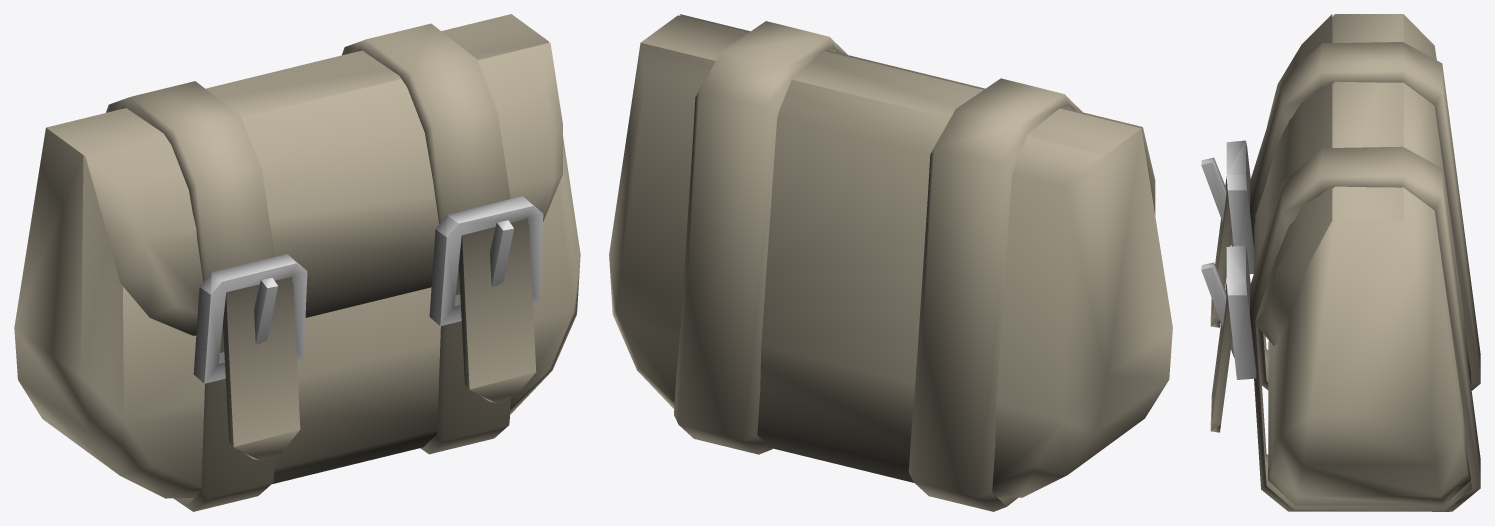
File: pq_bourse.glb
The picture shows the model from 3 angles, left to right: view 1: azimuth 30°, elevation 25°; view 2: azimuth 150°, elevation 25°; view 3: azimuth 270°, elevation 25°; orthographic projection. The views are drawn at different scales.
Visible parts, largest first — view 1: Pouch_Large; view 2: Pouch_Large; view 3: Pouch_Large.
Boxes of the visible parts, left/top/right/bottom form: Pouch_Large: left=14, top=14, right=580, bottom=511; Pouch_Large: left=609, top=14, right=1172, bottom=511; Pouch_Large: left=1201, top=14, right=1480, bottom=511.
Bounding box in the file's own units: 0.2255 × 0.1591 × 0.1199.
